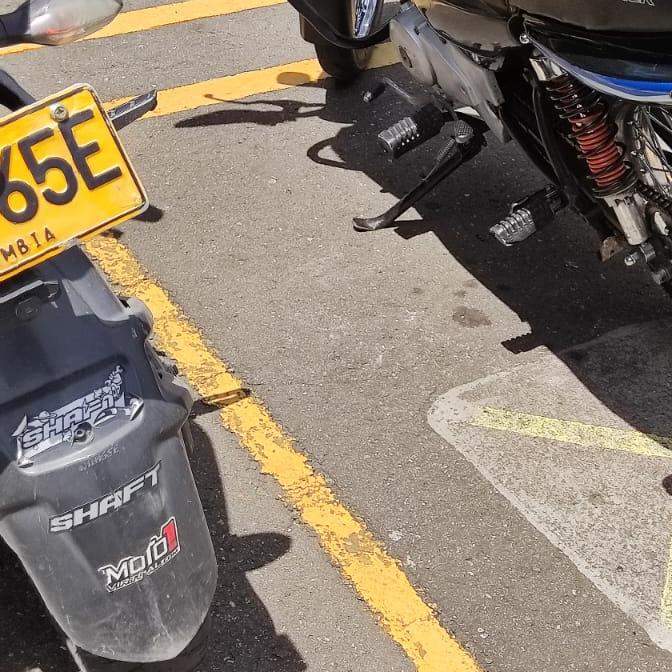plates: (0, 86, 146, 282)
